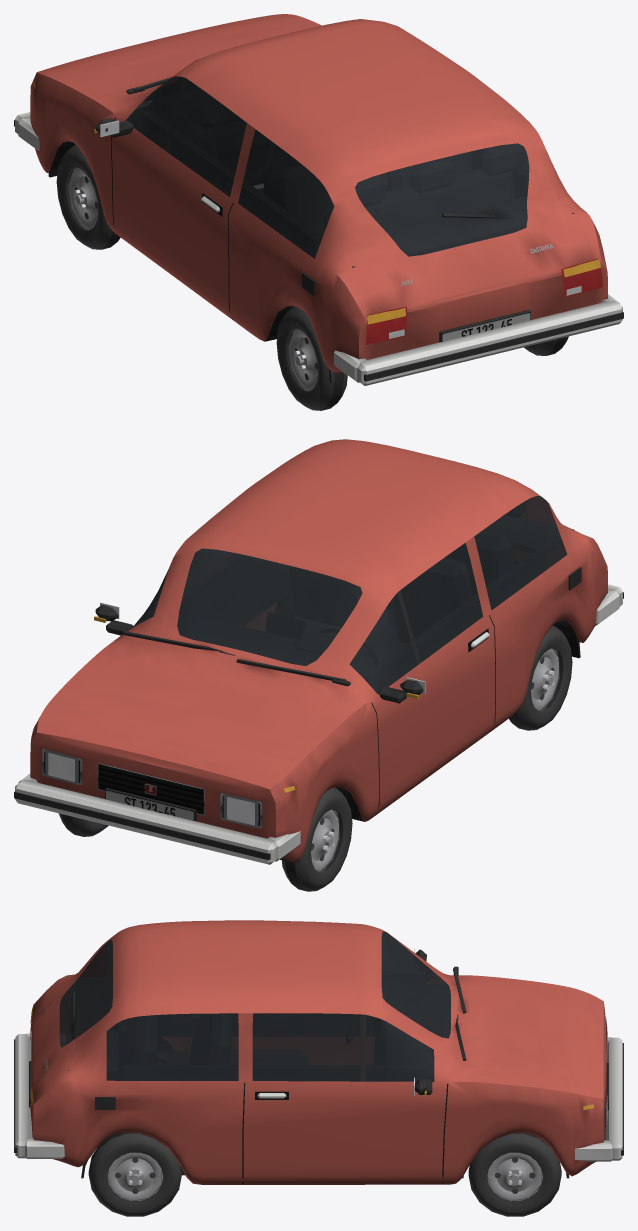
The model's file is jugic.glb.
3 renders of one model, top to bottom at view 1: azimuth 30°, elevation 25°; view 2: azimuth 150°, elevation 25°; view 3: azimuth 270°, elevation 25°, orthographic. The views are drawn at different scales.
Parts seen in each view (by area): view 1: body, wheelmesh_2, wheelmesh_0; view 2: body, wheelmesh_0, wheelmesh_2, wheelmesh_1; view 3: body, wheelmesh_3, wheelmesh_1.
Part boxes in pixels (x1,y1,x2,y2): body: (14, 14, 623, 385); wheelmesh_2: (276, 306, 347, 410); wheelmesh_0: (56, 145, 120, 249); body: (14, 439, 623, 864); wheelmesh_0: (281, 787, 352, 891); wheelmesh_2: (508, 625, 572, 730); wheelmesh_1: (58, 813, 108, 836); body: (14, 920, 623, 1184); wheelmesh_3: (88, 1132, 181, 1216); wheelmesh_1: (468, 1132, 561, 1216).
Size of the model in its own units: 1.91 by 1.39 by 3.57.
Materials: 23 (1 with a texture image).
